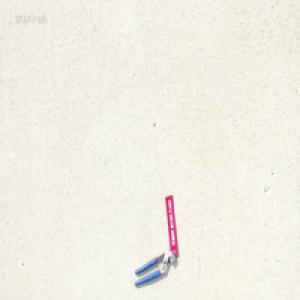Label: (165, 194, 178, 256)
Pliers: (134, 248, 176, 286)
